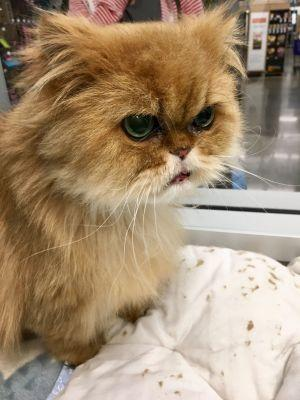persian: (30, 1, 263, 236)
